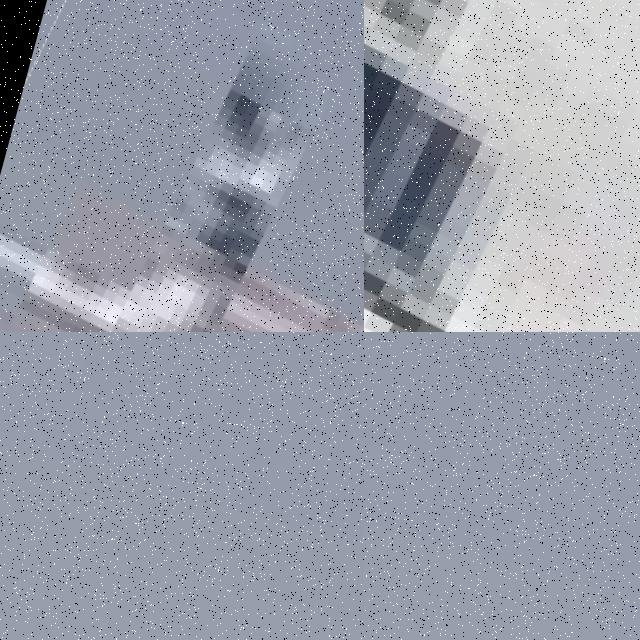drone: (0, 0, 364, 332), (364, 0, 640, 332)
